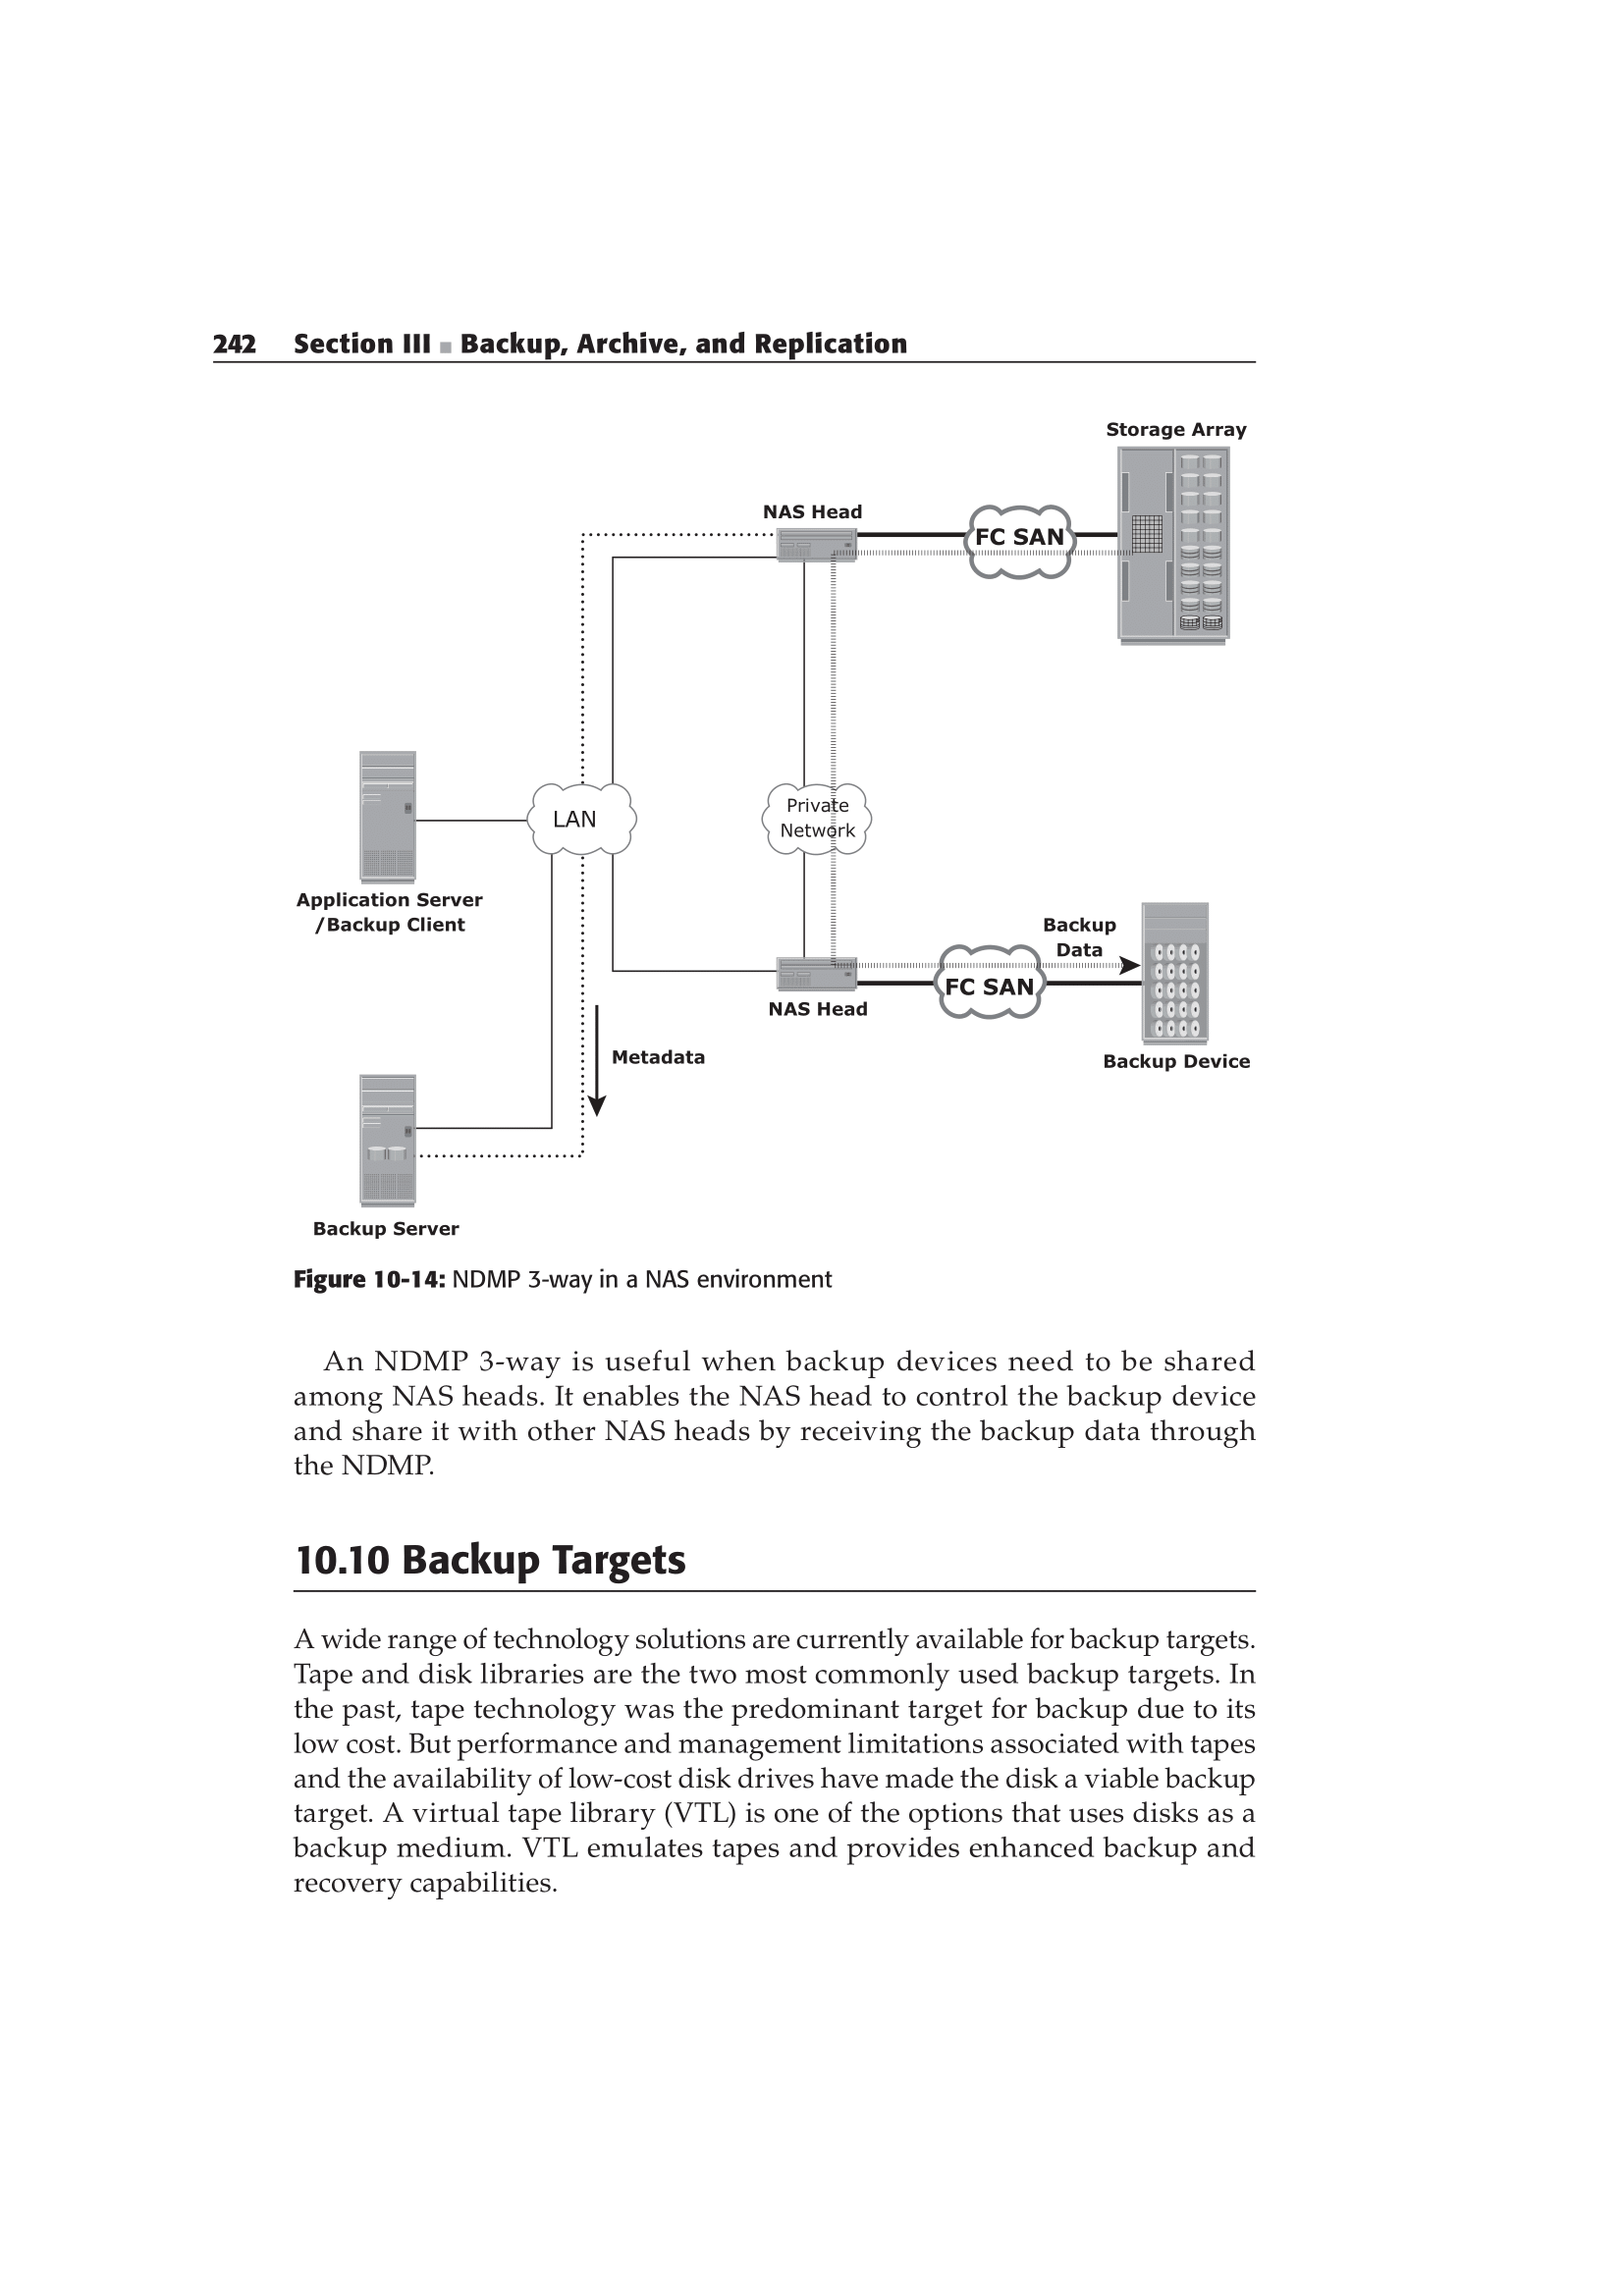Image: (251, 379, 1305, 1260)
Paragraph: (269, 1597, 1288, 1891), (283, 1324, 1270, 1492), (200, 305, 922, 356), (288, 1515, 699, 1594), (283, 1264, 859, 1309)
